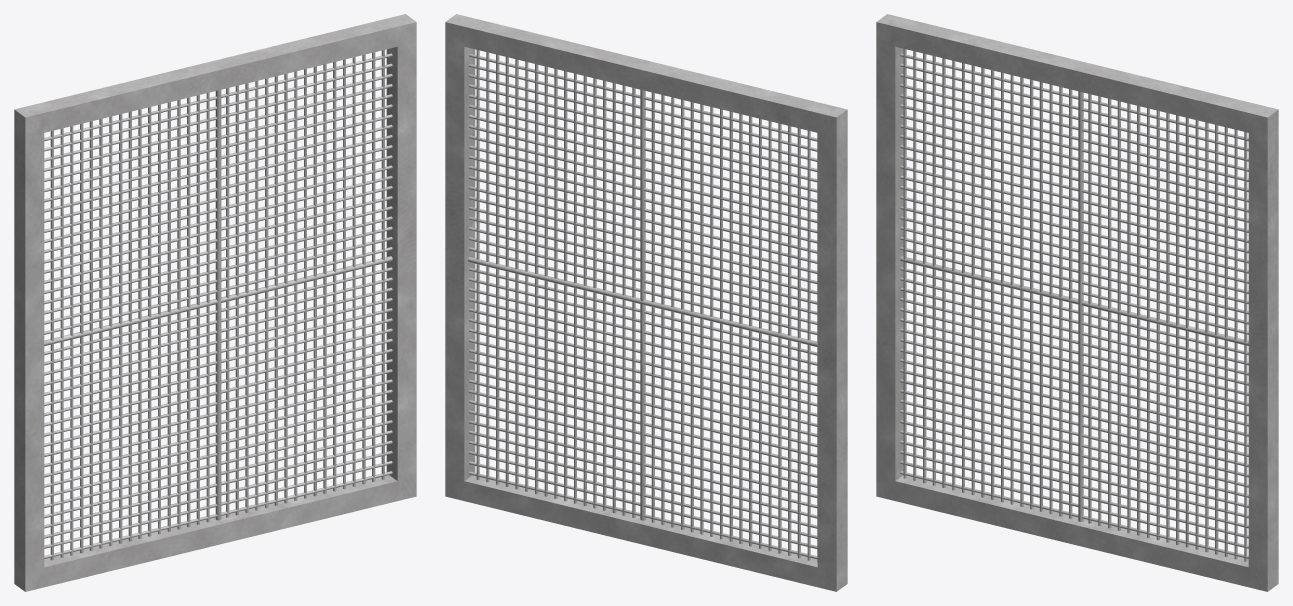
File: LC_3048_VentA_LOD2.FBX
3 views of the same model, side by side, from view 1: azimuth 30°, elevation 25°; view 2: azimuth 150°, elevation 25°; view 3: azimuth 330°, elevation 25° (orthographic).
Parts seen in each view (by area): view 1: LC_3048_VentA_LOD2; view 2: LC_3048_VentA_LOD2; view 3: LC_3048_VentA_LOD2.
Part boxes in pixels (x1,y1,x2,y2): LC_3048_VentA_LOD2: (14, 14, 416, 591); LC_3048_VentA_LOD2: (445, 14, 847, 591); LC_3048_VentA_LOD2: (876, 14, 1278, 591).
Size of the model in its own units: 82 by 95 by 4.
Materials: 1 (1 with a texture image).
